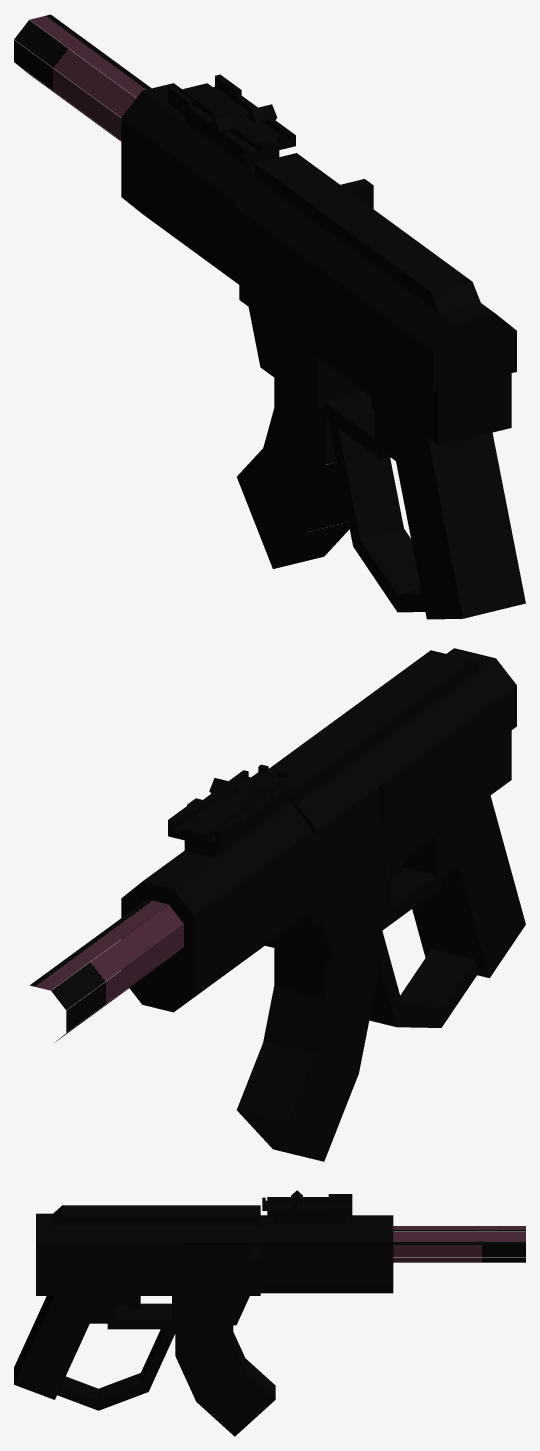
File: mteg_blue_heat.glb
The picture shows the model from 3 angles, top to bottom: view 1: azimuth 30°, elevation 25°; view 2: azimuth 150°, elevation 25°; view 3: azimuth 270°, elevation 25°; orthographic projection. The views are drawn at different scales.
Parts seen in each view (by area): view 1: Gun; view 2: Gun; view 3: Gun.
Boxes of the visible parts, x1,y1,x2,y2 form: Gun: (14,14,525,619); Gun: (29,648,525,1161); Gun: (14,1190,525,1436).
Bounding box in the file's own units: 0.1562 × 0.4694 × 0.9402.
1 material, 1 textured.
